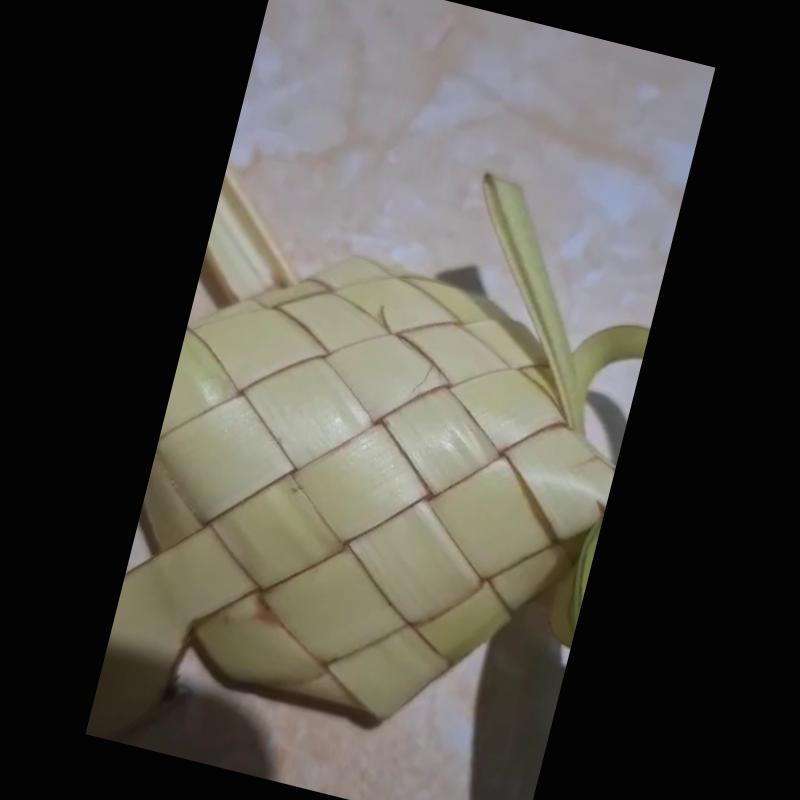Tipat Dampulan: (140, 167, 650, 729)
